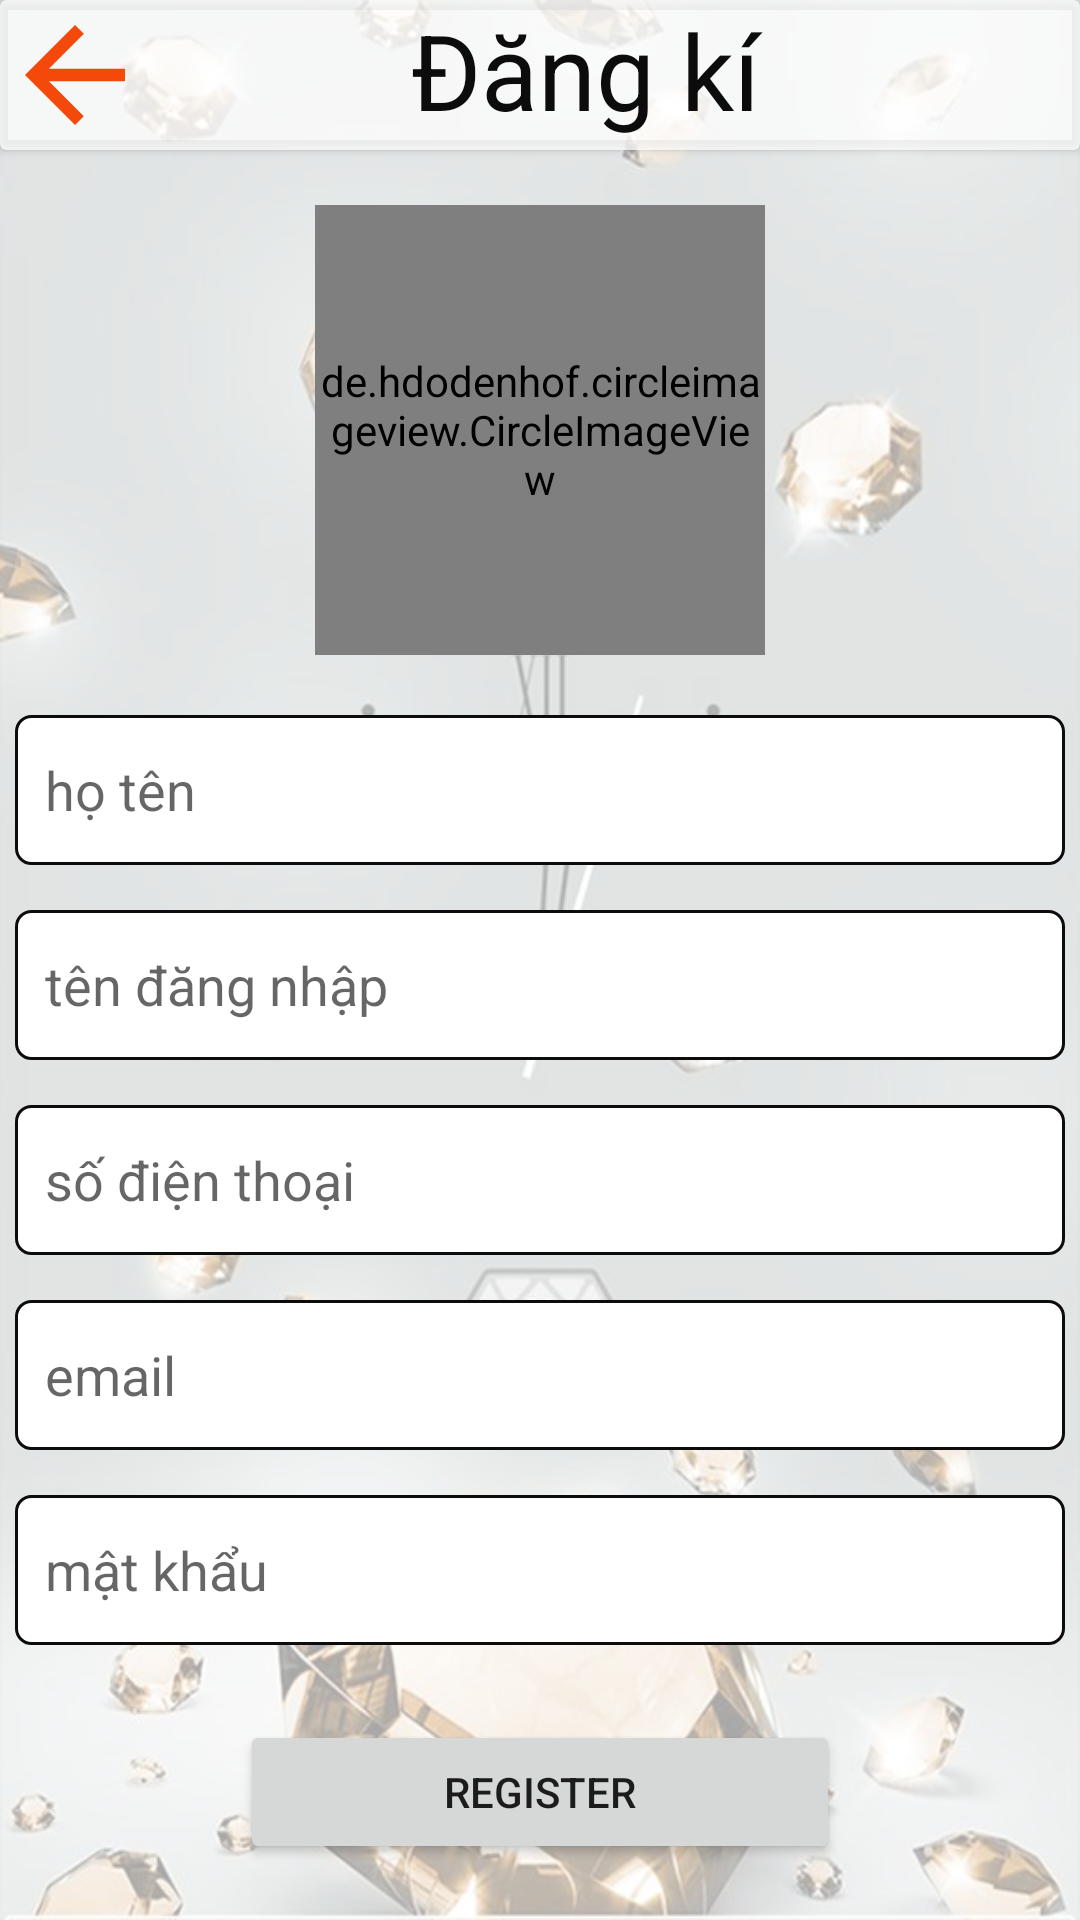

Screen size 1080x1920. Icon name, then its box in pixels as BBox(x1, y1, x2, y2):
back: BBox(0, 0, 125, 125)
